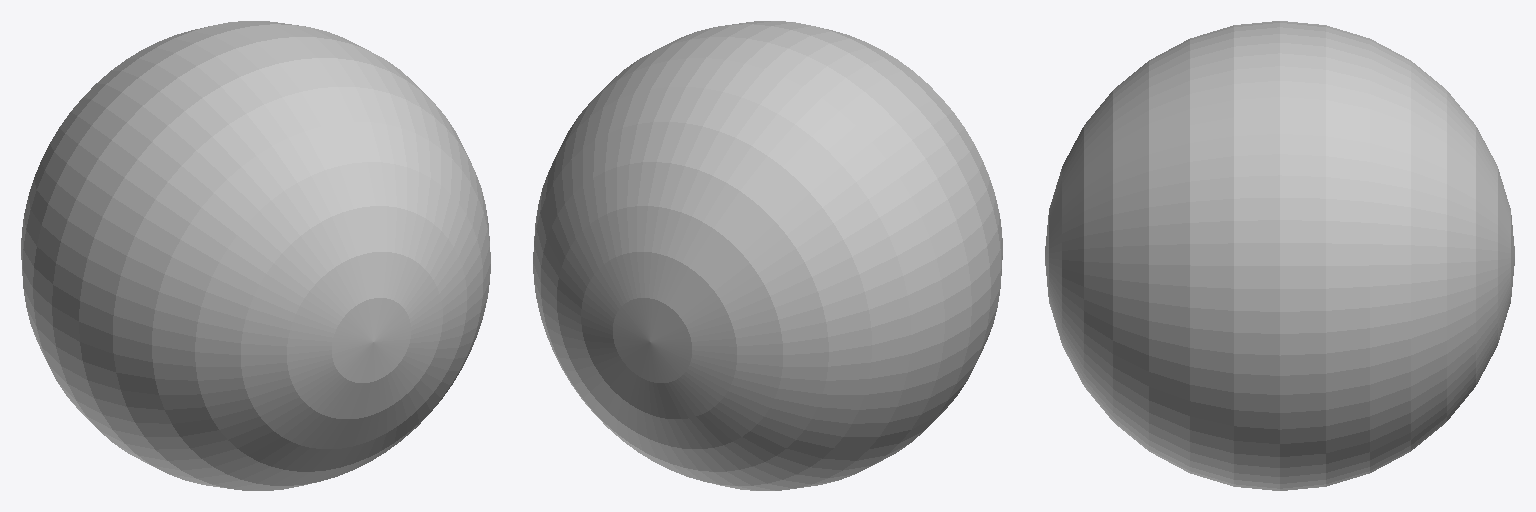
Rendered from Sky Dome.obj.
3 renders of one model, left to right at view 1: azimuth 30°, elevation 25°; view 2: azimuth 150°, elevation 25°; view 3: azimuth 270°, elevation 25°, orthographic.
Parts seen in each view (by area): view 1: Сфера; view 2: Сфера; view 3: Сфера.
Boxes of the visible parts, <box> form: Сфера: <box>21,21,490,490</box>; Сфера: <box>533,21,1002,490</box>; Сфера: <box>1045,21,1514,490</box>.
Bounding box in the file's own units: 410 × 410 × 410.